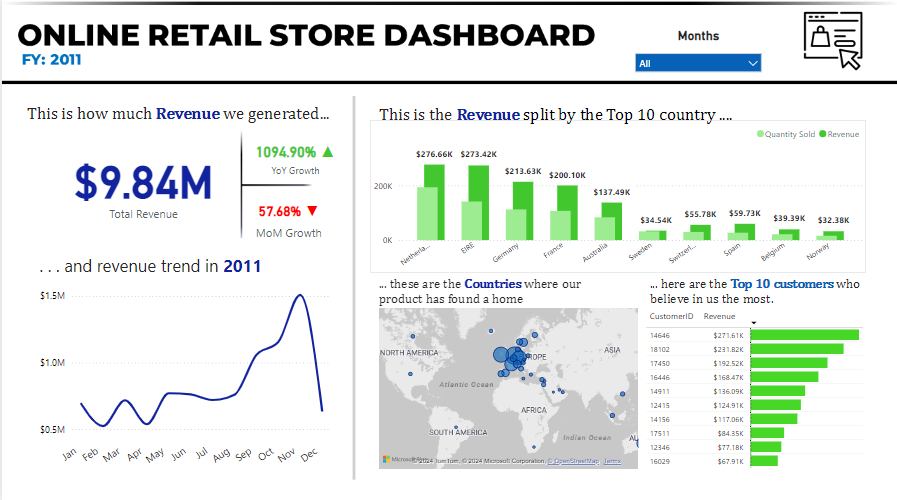

The dashboard page shown, as its layout file describes it:
{"tool":"powerbi","page":{"name":"Main Dashboard","canvas":[1280,720],"ordinal":0},"visuals":[{"type":"card","fields":{"Values":["KPIs.Revenue"]},"box":[75,203.3,253.3,123.3],"z":0},{"type":"card","fields":{"Values":["KPIs.YoY Growth"]},"box":[345,191.2,150,73.8],"z":1000},{"type":"slicer","title":"Months","fields":{"Values":["DateTable.MonthName"]},"box":[894.3,42.9,201.4,67.1],"z":2000},{"type":"card","fields":{"Values":["KPIs.MoM Growth"]},"box":[344.5,274.5,130.9,82.7],"z":3000},{"type":"lineChart","fields":{"Category":["DateTable.MonthName"],"Y":["KPIs.Revenue"]},"box":[49,393.1,426.2,295.2],"z":4000},{"type":"clusteredColumnChart","fields":{"Category":["Online Retail.Country"],"Y":["Sum(Online Retail.Quantity)","KPIs.Revenue"]},"box":[525.7,174.3,708.6,218.6],"z":5000},{"type":"tableEx","fields":{"Values":["Online Retail.CustomerID","KPIs.Revenue","KPIs.RevenueCustomer"]},"box":[913.6,439.1,334.5,240],"z":6000},{"type":"textbox","box":[30,147.1,461.4,52.9],"z":7000},{"type":"textbox","box":[48.6,360,427.1,52.9],"z":8000},{"type":"textbox","box":[533.3,148.3,533.3,53.3],"z":9000},{"type":"map","fields":{"Category":["Online Retail.Country"],"Size":["Sum(Online Retail.Quantity)"]},"box":[533.6,439.1,380,240],"z":11000},{"type":"textbox","box":[533.3,393.3,321.1,64.4],"z":12000},{"type":"textbox","box":[920,393.3,321.1,64.4],"z":13000},{"type":"shape","box":[443.3,140,120,548.3],"z":14000}]}

Visuals, with their boxes in screenshot pixels (x1, y1, x2, y2), scaled from the page's 1280x720 canvas onto the 897x500 screenshot:
card - KPIs.Revenue: Rect(53, 141, 230, 227)
card - KPIs.YoY Growth: Rect(242, 133, 347, 184)
"Months" slicer: Rect(627, 30, 768, 76)
card - KPIs.MoM Growth: Rect(241, 191, 333, 248)
lineChart - DateTable.MonthName x KPIs.Revenue: Rect(34, 273, 333, 478)
clusteredColumnChart - Online Retail.Country x Sum(Online Retail.Quantity): Rect(368, 121, 865, 273)
tableEx - Online Retail.CustomerID x KPIs.Revenue: Rect(640, 305, 875, 472)
textbox: Rect(21, 102, 344, 139)
textbox: Rect(34, 250, 333, 287)
textbox: Rect(374, 103, 747, 140)
map - Online Retail.Country x Sum(Online Retail.Quantity): Rect(374, 305, 640, 472)
textbox: Rect(374, 273, 599, 318)
textbox: Rect(645, 273, 870, 318)
shape: Rect(311, 97, 395, 478)
